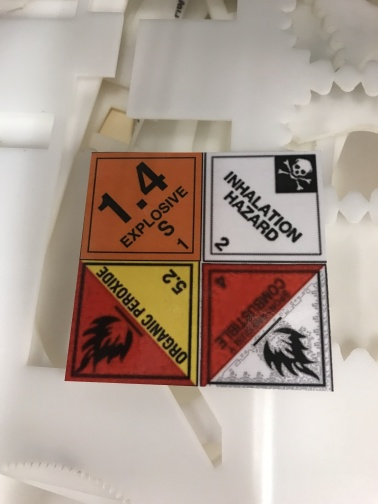Explosive: (78, 152, 203, 261)
InhalationHazard: (204, 151, 327, 261)
OrganicPeroxide: (65, 259, 199, 387)
SpontaneouslyCombustible: (202, 262, 336, 391)
